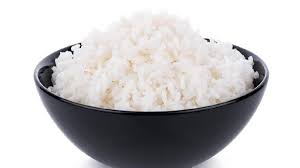Nasi putih: (47, 6, 263, 118)
